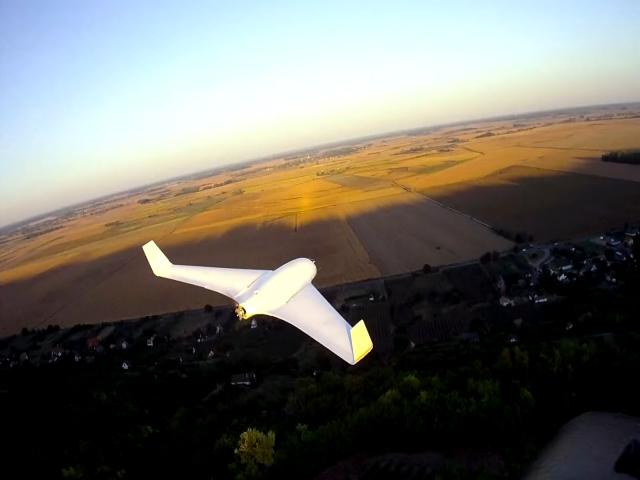plane: (142, 236, 373, 365)
